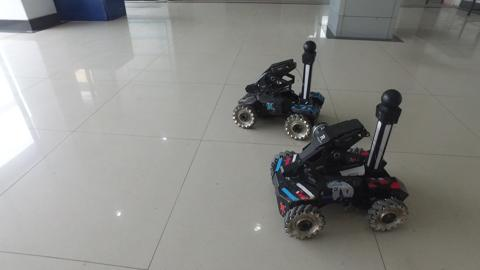chariot: (270, 87, 414, 242), (229, 33, 323, 143)
